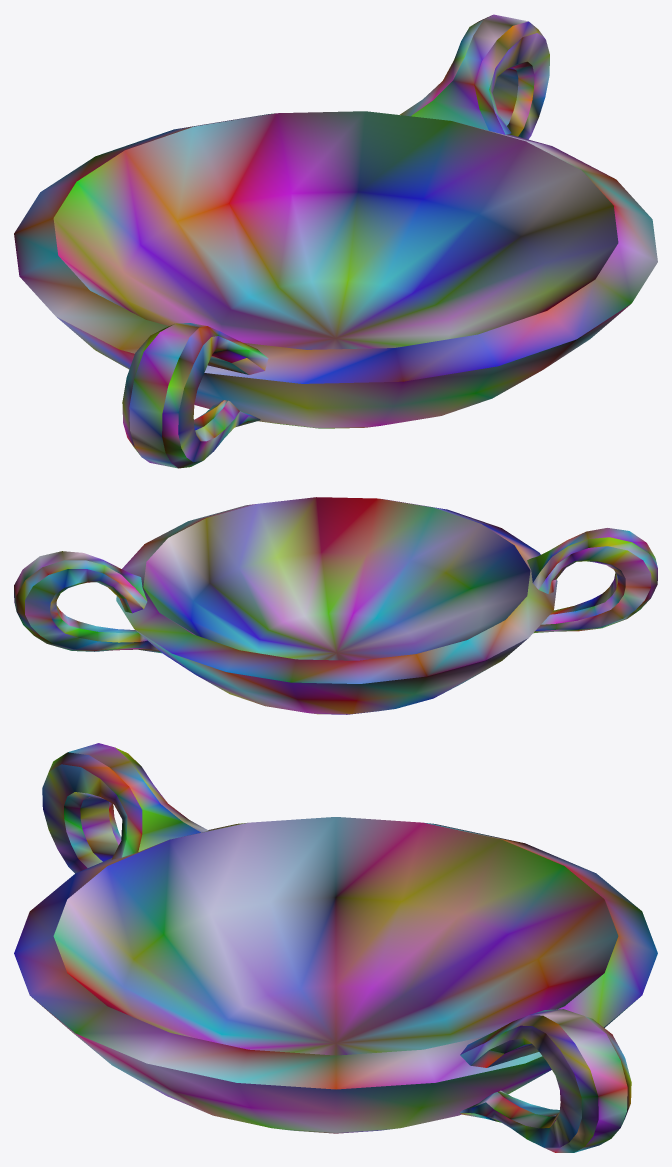
File: Pot07.fbx
3 renders of one model, top to bottom at view 1: azimuth 30°, elevation 25°; view 2: azimuth 150°, elevation 25°; view 3: azimuth 270°, elevation 25°, orthographic. The views are drawn at different scales.
Parts seen in each view (by area): view 1: Pot.004; view 2: Pot.004; view 3: Pot.004.
Boxes of the visible parts, x1,y1,x2,y2 form: Pot.004: (14,14,657,468); Pot.004: (14,497,657,714); Pot.004: (14,743,657,1152).
Size of the model in its own units: 85.4 by 25.24 by 70.78.
